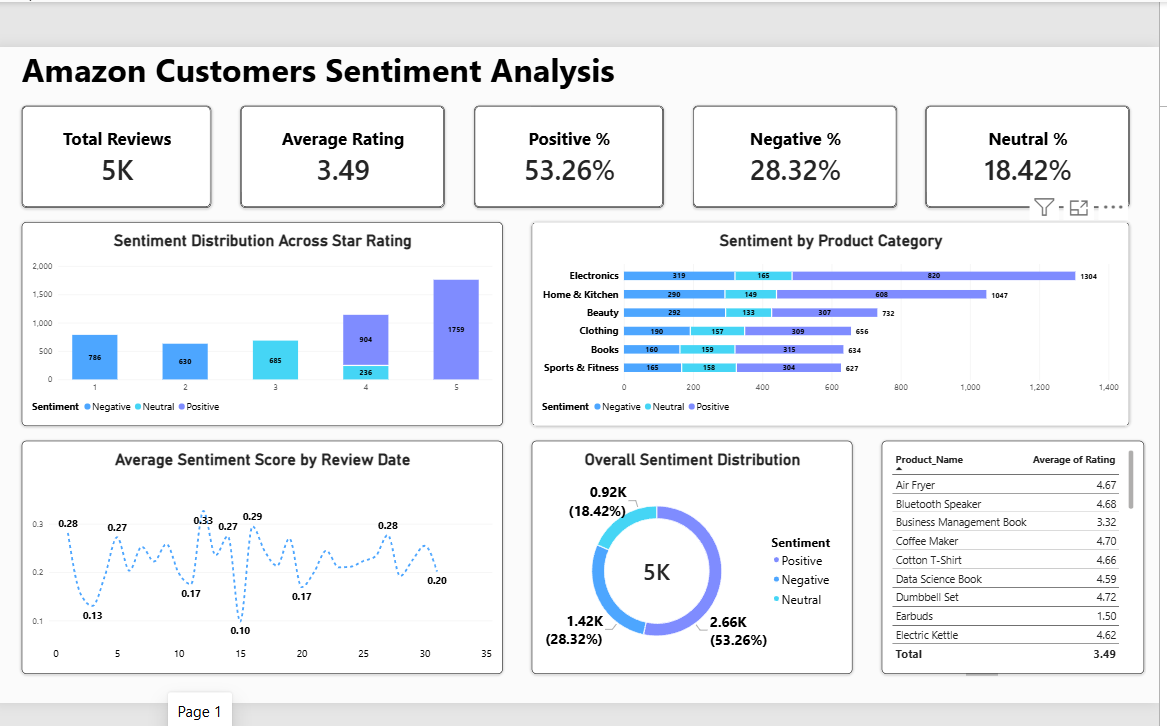

The dashboard page shown, as its layout file describes it:
{"tool":"powerbi","page":{"name":"Page 1","canvas":[1920,1080],"ordinal":0},"visuals":[{"type":"textbox","box":[48,0,1128,72],"z":0},{"type":"cardVisual","fields":{"Data":["Amazon_Reviews.Total Reviews"]},"box":[48,96,312,168],"z":1000},{"type":"cardVisual","fields":{"Data":["Amazon_Reviews.Average Rating"]},"box":[408,96,336,168],"z":2000},{"type":"cardVisual","fields":{"Data":["Amazon_Reviews.Positive %"]},"box":[816,96,312,168],"z":3000},{"type":"cardVisual","fields":{"Data":["Amazon_Reviews.Negative %"]},"box":[1176,96,312,168],"z":4000},{"type":"cardVisual","fields":{"Data":["Amazon_Reviews.Neutral %"]},"box":[1536,96,336,168],"z":5000},{"type":"donutChart","title":"Overall Sentiment Distribution","fields":{"Category":["Amazon_Reviews.Sentiment"],"Y":["CountNonNull(Amazon_Reviews.Review_ID)"]},"box":[888,648,528,384],"z":6000},{"type":"clusteredColumnChart","title":"Sentiment Distribution by Rating","fields":{"Category":["Amazon_Reviews.Rating"],"Y":["CountNonNull(Amazon_Reviews.Review_ID)"],"Series":["Amazon_Reviews.Sentiment"]},"box":[48,288,792,336],"z":7000},{"type":"lineChart","title":"Average Sentiment Score Trend Over Time","fields":{"Y":["Avg(Amazon_Reviews.Sentiment_Score)"],"Category":["Amazon_Reviews.Review_Date.Variation.Date Hierarchy.Year","Amazon_Reviews.Review_Date.Variation.Date Hierarchy.Month","Amazon_Reviews.Review_Date.Variation.Date Hierarchy.Day"]},"box":[48,648,792,384],"z":8000},{"type":"barChart","title":"Sentiment by Product Category","fields":{"Category":["Amazon_Reviews.Product_Category"],"Y":["CountNonNull(Amazon_Reviews.Review_ID)"],"Series":["Amazon_Reviews.Sentiment"]},"box":[888,288,984,336],"z":9000},{"type":"tableEx","fields":{"Values":["Amazon_Reviews.Product_Name","Avg(Amazon_Reviews.Rating)"]},"box":[1464,648,432,384],"z":10000}]}

Visuals, with their boxes on the page's 1920x1080 design canvas (x1, y1, x2, y2). These are canvas units, not pixel positions in the 1167x726 screenshot, which may show the page scaled, cropped or inside an application window:
textbox: [left=48, top=0, right=1176, bottom=72]
cardVisual - Amazon_Reviews.Total Reviews: [left=48, top=96, right=360, bottom=264]
cardVisual - Amazon_Reviews.Average Rating: [left=408, top=96, right=744, bottom=264]
cardVisual - Amazon_Reviews.Positive %: [left=816, top=96, right=1128, bottom=264]
cardVisual - Amazon_Reviews.Negative %: [left=1176, top=96, right=1488, bottom=264]
cardVisual - Amazon_Reviews.Neutral %: [left=1536, top=96, right=1872, bottom=264]
"Overall Sentiment Distribution" donutChart: [left=888, top=648, right=1416, bottom=1032]
"Sentiment Distribution by Rating" clusteredColumnChart: [left=48, top=288, right=840, bottom=624]
"Average Sentiment Score Trend Over Time" lineChart: [left=48, top=648, right=840, bottom=1032]
"Sentiment by Product Category" barChart: [left=888, top=288, right=1872, bottom=624]
tableEx - Amazon_Reviews.Product_Name x Avg(Amazon_Reviews.Rating): [left=1464, top=648, right=1896, bottom=1032]
